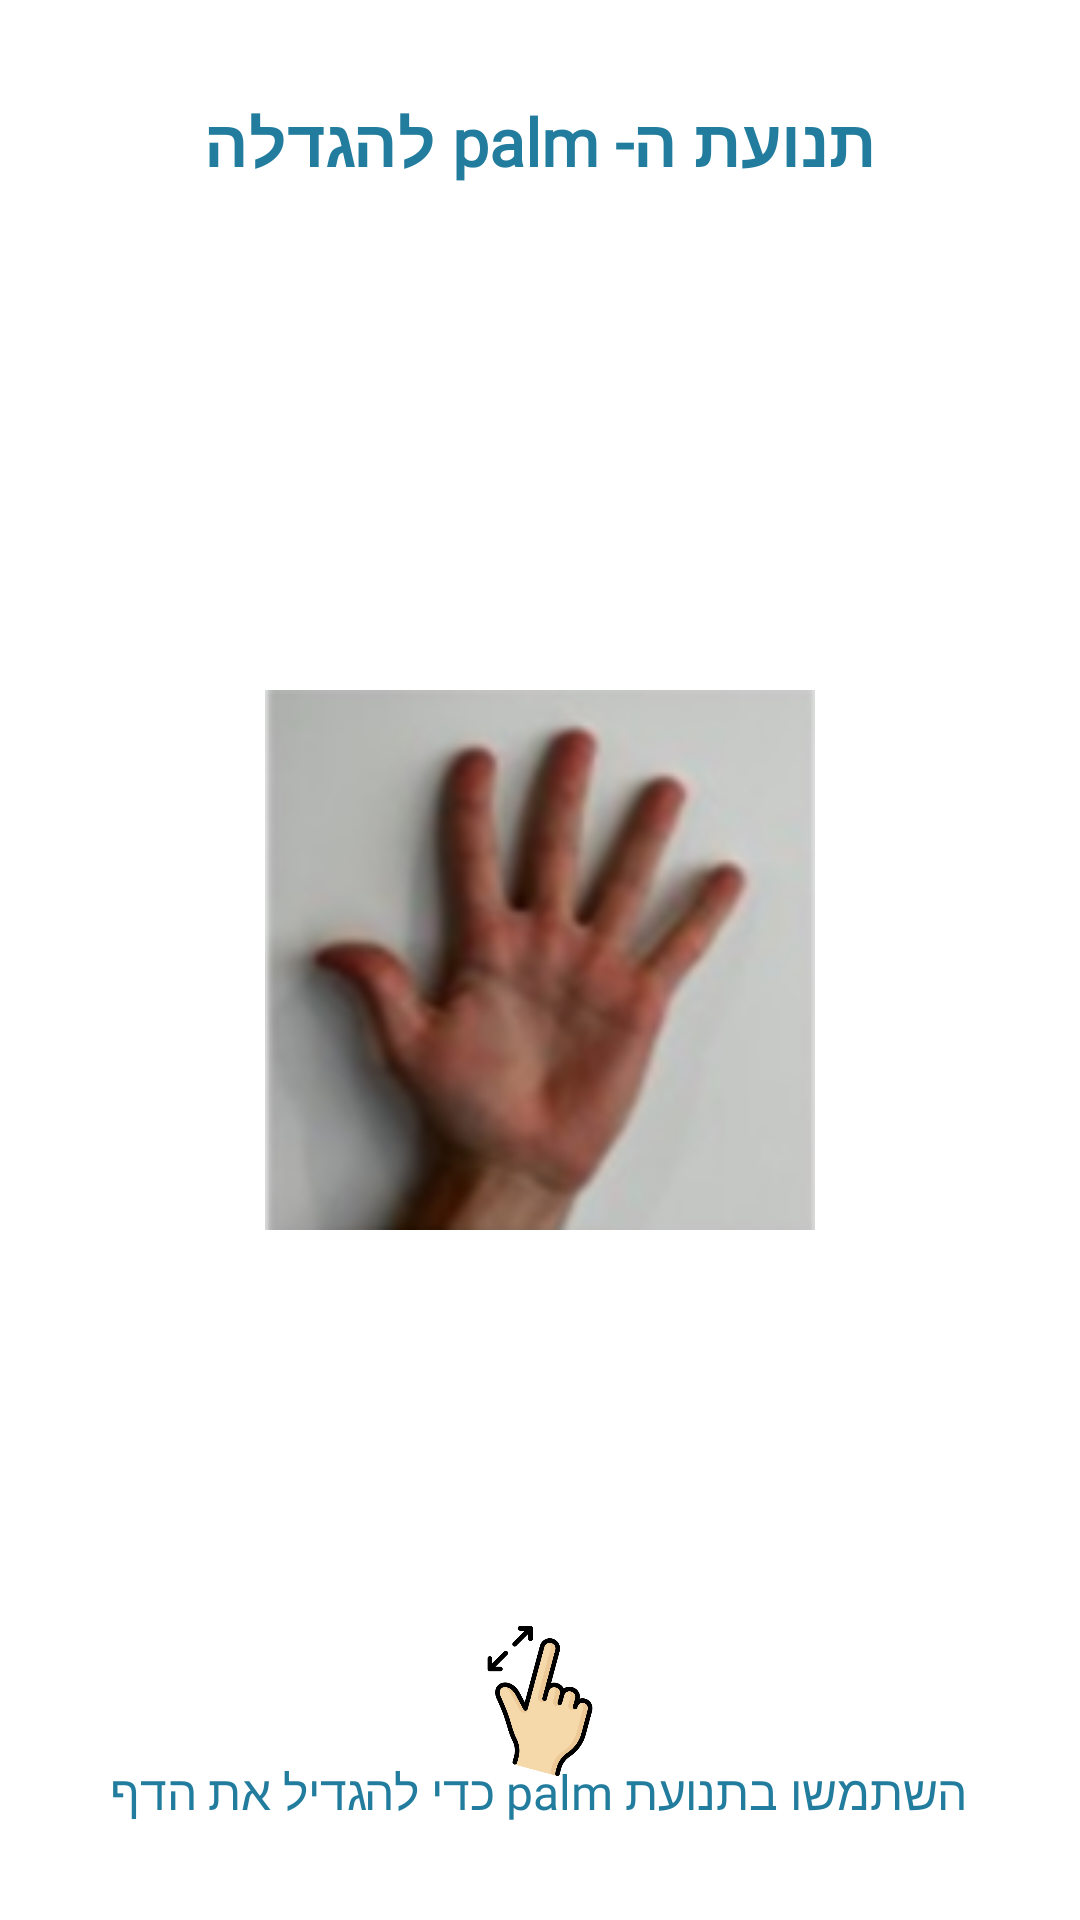

Where icons sit on this 1080×1920 app screen, as (x1,y1,x2,y2):
zoom in: (487,1626,593,1776)
